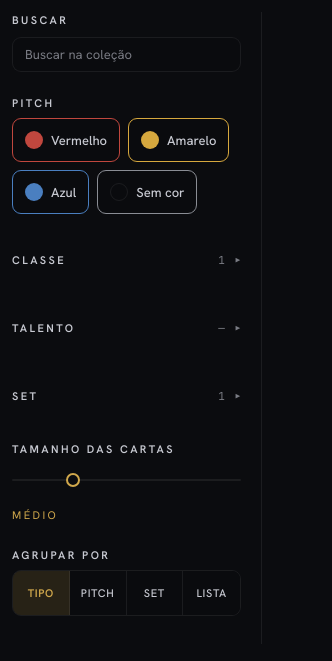
Test: LibraryFilterRail — class/talent/set accordion sections › shows the empty-talent hint inside the talent accordion when expanded
The image size is (332, 661).
Click the button "Talento — ▾" at (126, 328), box [12, 306, 241, 350]
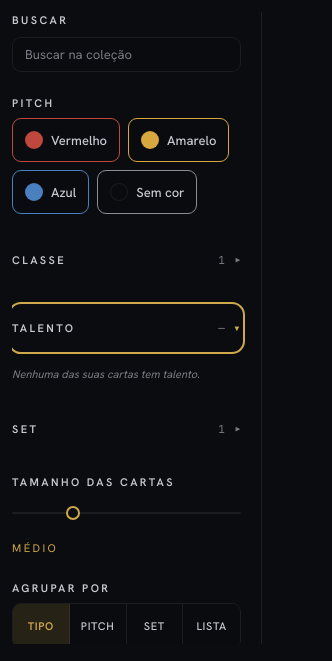
Check: the text "Nenhuma das suas cartas tem talento." is shown, box [12, 367, 200, 381]
